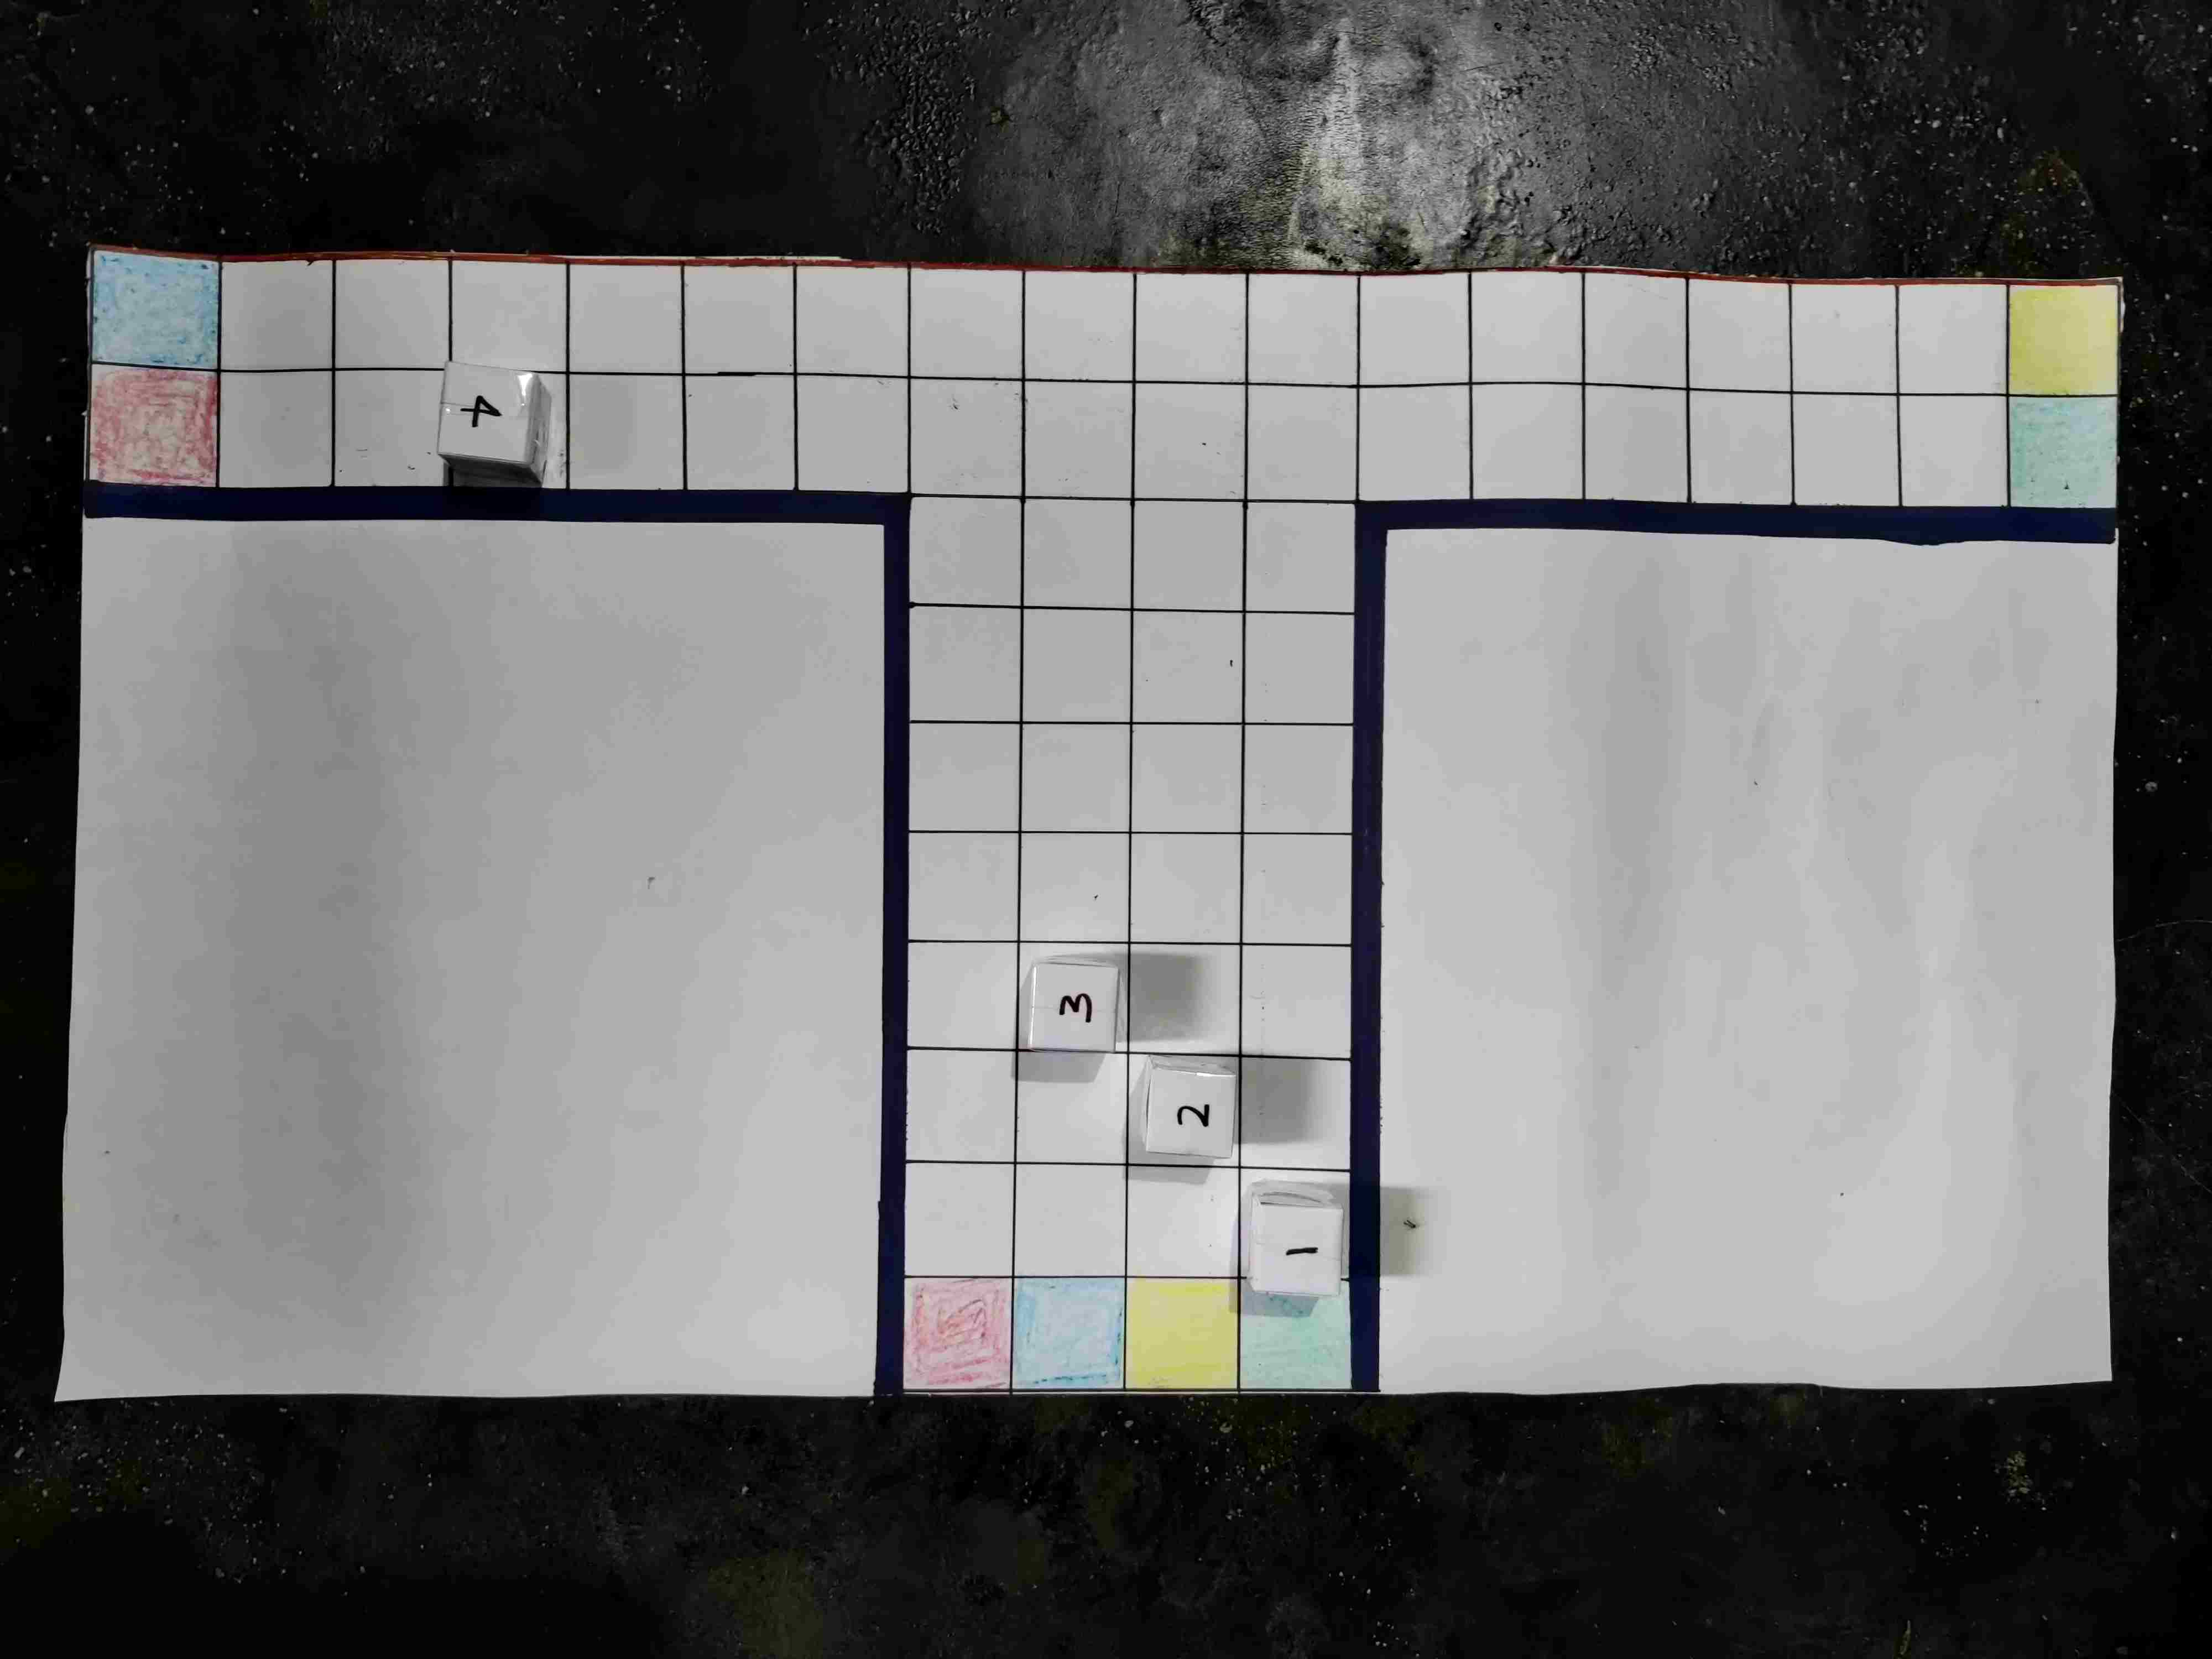arena: (256, 82, 2174, 1169)
bot: (1012, 645, 1096, 732), (556, 1061, 648, 1138), (1986, 960, 2069, 1042), (1228, 964, 1301, 1051)
